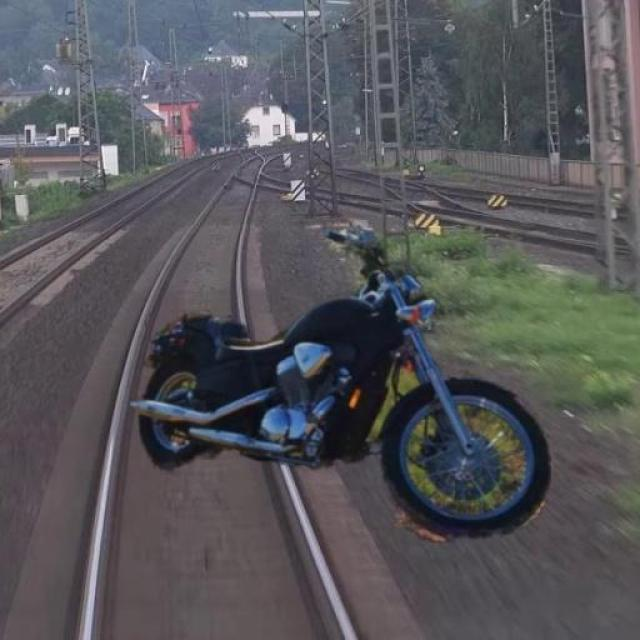vehicle: (115, 229, 568, 538)
